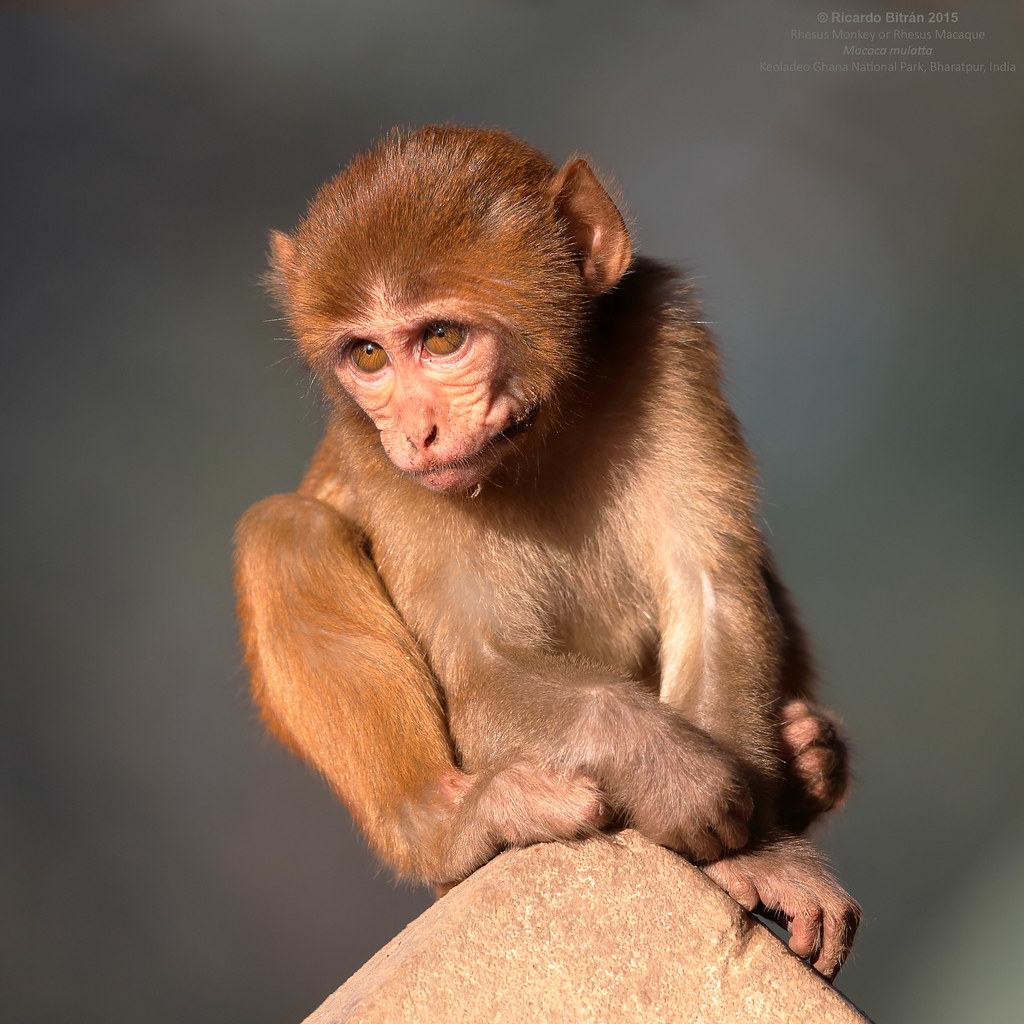monkey: (217, 115, 906, 970)
